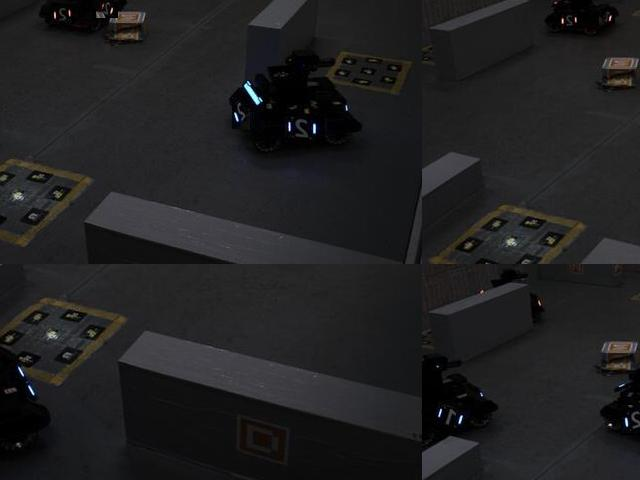armor: (436, 400, 470, 433), (285, 116, 326, 143), (233, 98, 252, 131), (621, 405, 639, 437), (51, 6, 77, 26), (559, 11, 583, 30), (97, 2, 120, 19), (600, 9, 617, 26)
